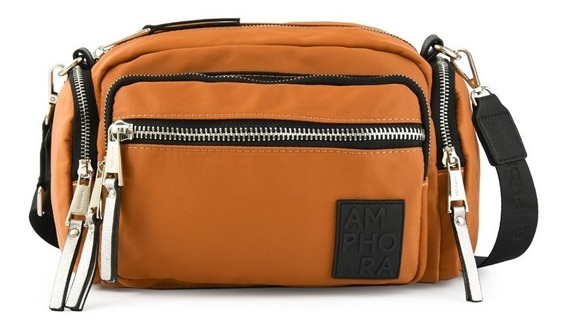cartera: (26, 17, 538, 295)
